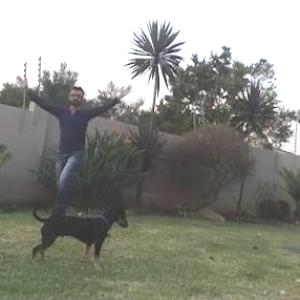takeoff: (37, 82, 151, 214)
